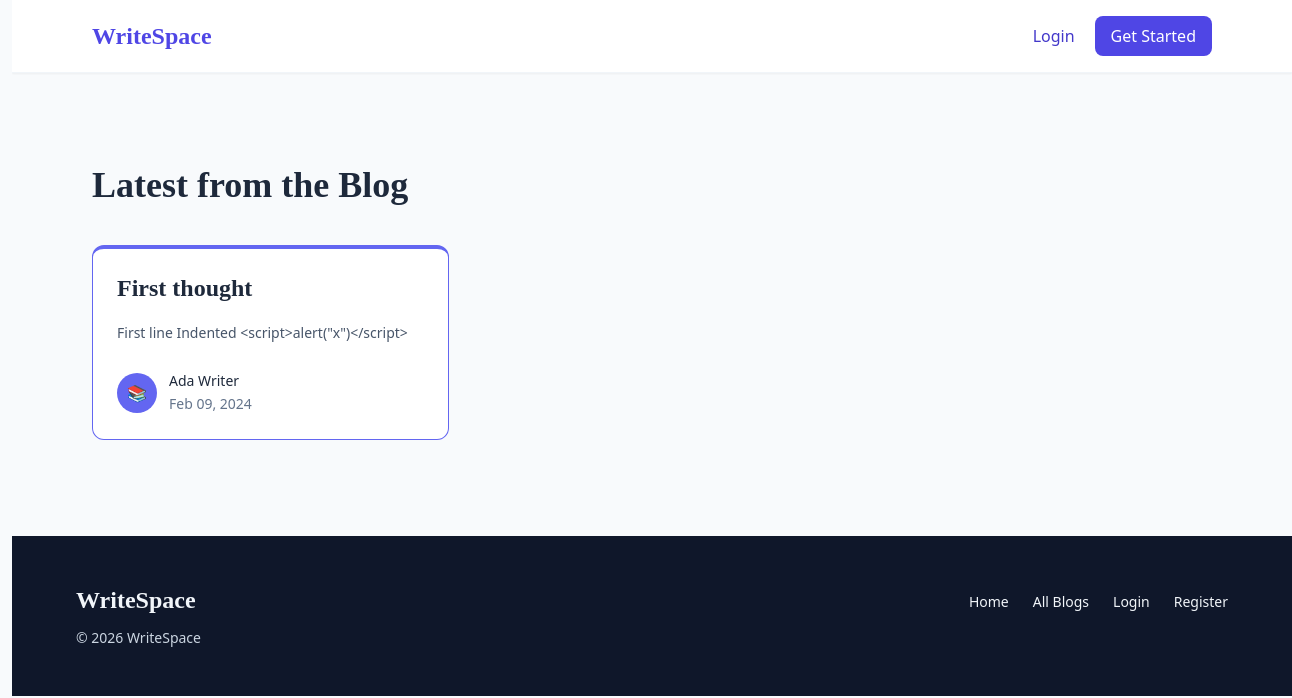
Scenario: public landing › clicks the public footer Register link through the real route and guard
(page scrolled)
Click the link "Register" at (1201, 602), box [1174,592,1228,611]
(page scrolled)
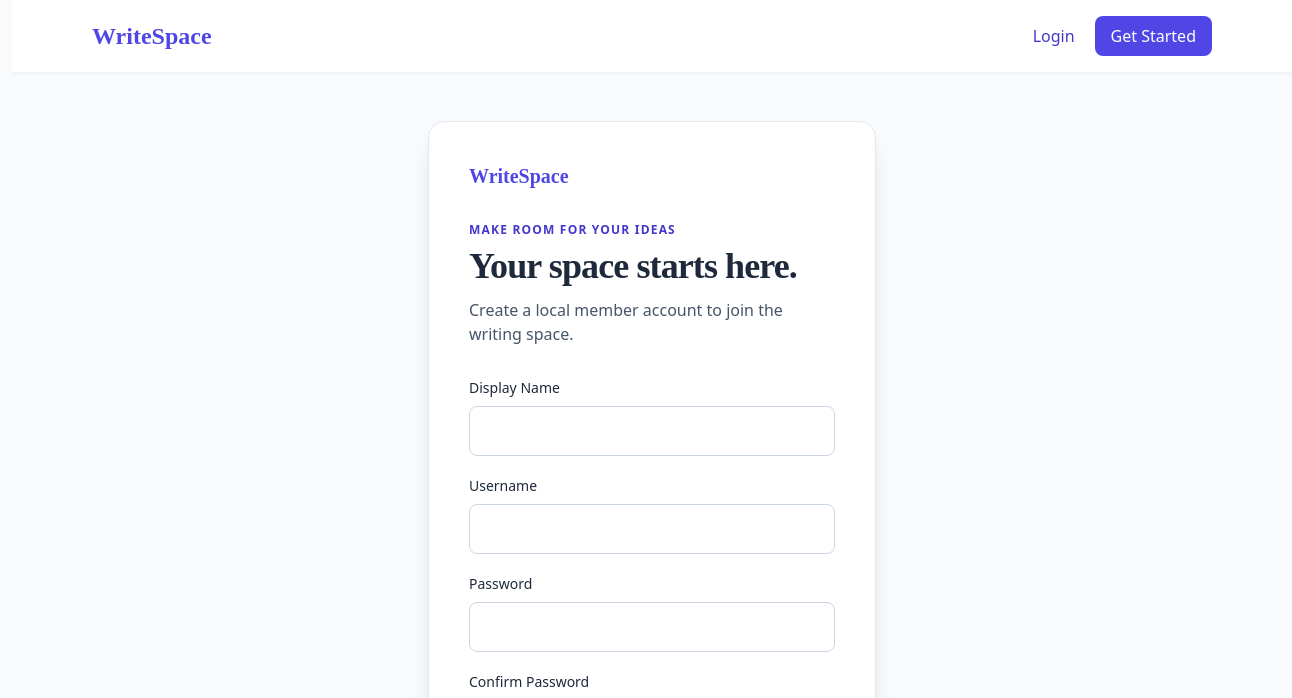
Now the heading reads "Your space starts here.", box [469,246,797,286]
